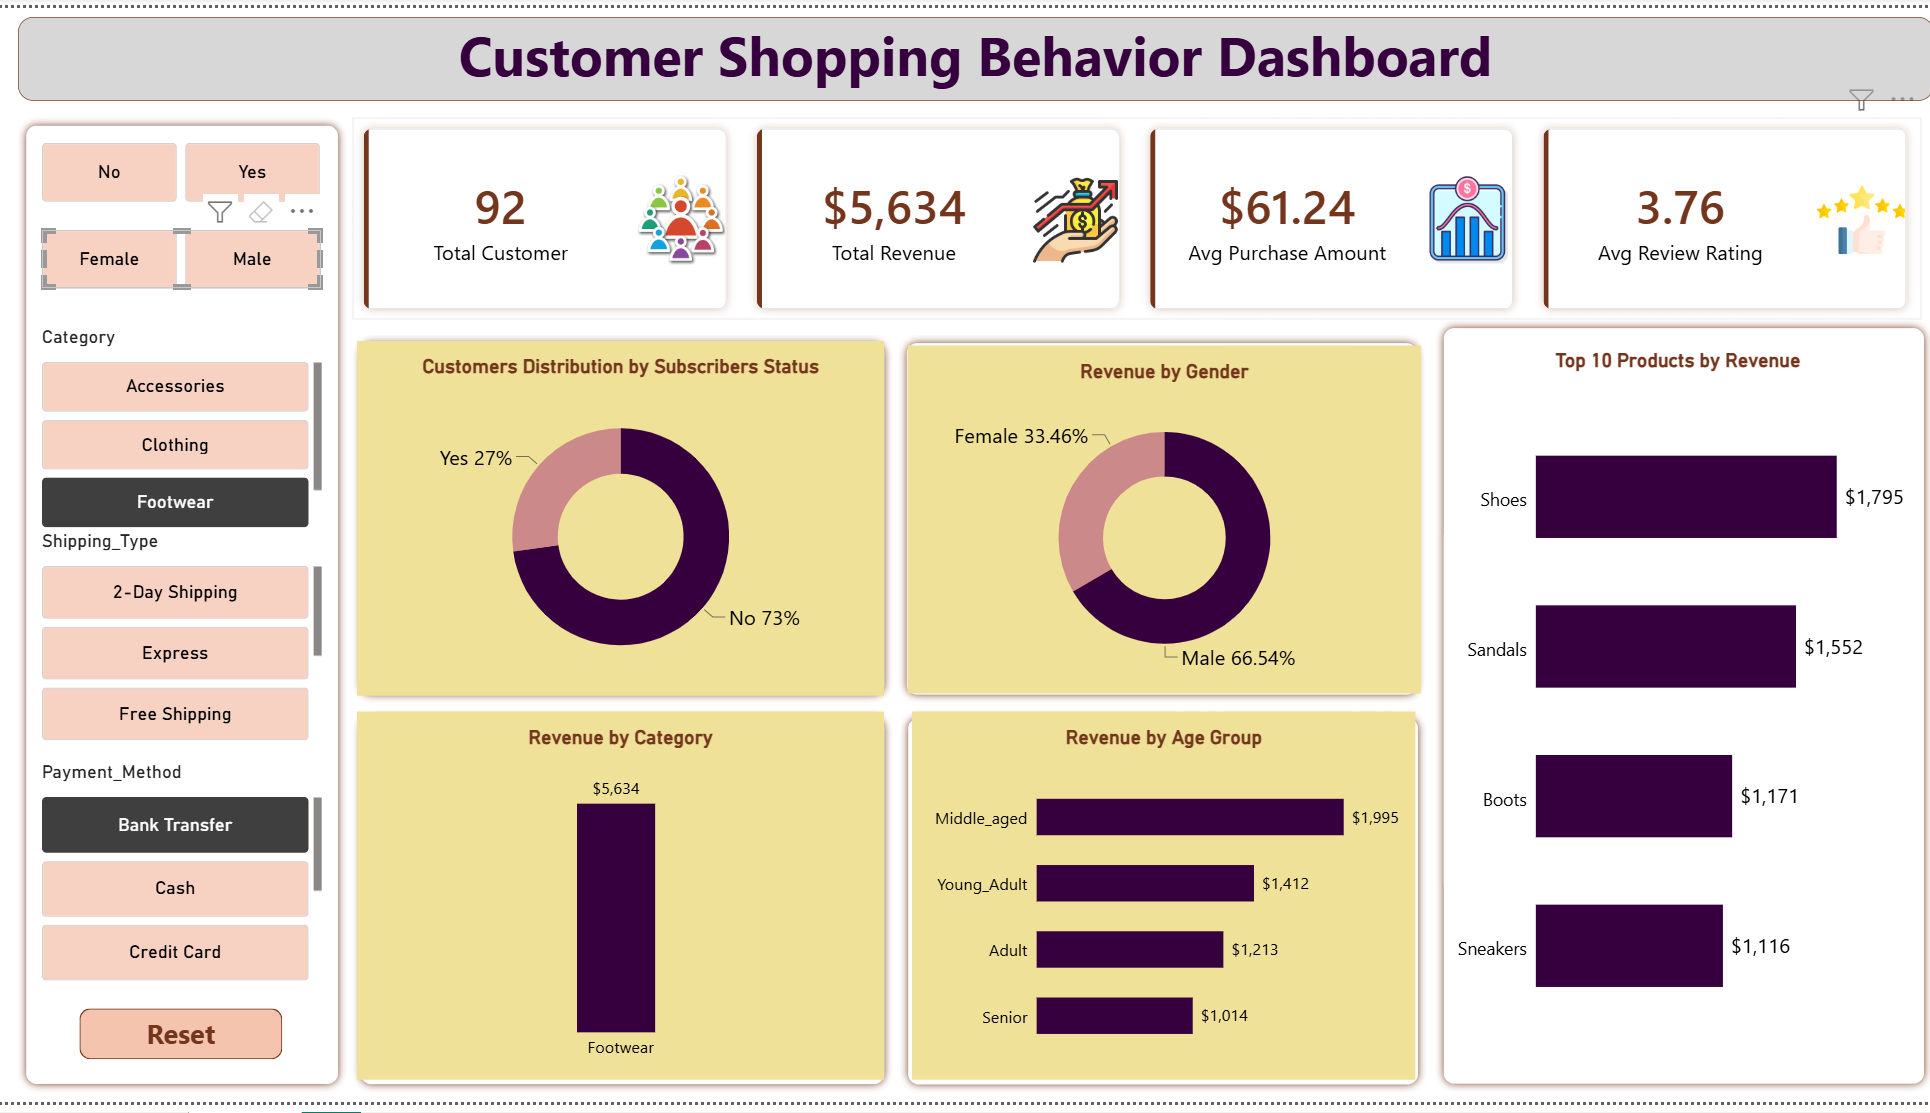

The dashboard page shown, as its layout file describes it:
{"tool":"powerbi","page":{"name":"Page 1","canvas":[1920,1080],"ordinal":0},"visuals":[{"type":"shape","box":[351.4,692.9,532.9,377.1],"z":0},{"type":"shape","box":[890.8,692.5,519.2,377.5],"z":1000},{"type":"shape","box":[1420,308.6,490,761.4],"z":2000},{"type":"shape","box":[890,322.8,519.5,362.9],"z":3000},{"type":"shape","box":[351.4,322.8,532.8,362.9],"z":4000},{"type":"cardVisual","fields":{"Data":["public customer.Total Customer","public customer.Total Revenue","public customer.Avg Purchase Amount","public customer.Avg Review Rating"]},"box":[351.4,108.6,1547.1,200],"z":5000},{"type":"textbox","box":[20,8.6,1890,82.9],"z":6000},{"type":"donutChart","title":"Customers Distribution by Subscribers Status","fields":{"Category":["public customer.subscription_status"],"Y":["public customer.Total Customer"]},"box":[355.2,328.5,520.3,350.2],"z":7000},{"type":"clusteredColumnChart","title":"Revenue by Category","fields":{"Category":["public customer.category"],"Y":["public customer.Total Revenue"]},"box":[355.2,693.7,520.3,363.5],"z":8000},{"type":"clusteredBarChart","title":"Revenue by Age Group","fields":{"Category":["public customer.age_group"],"Y":["public customer.Total Revenue"]},"box":[902.2,693.7,497,363.5],"z":9000},{"type":"donutChart","title":"Revenue by Gender","fields":{"Category":["public customer.gender"],"Y":["public customer.Total Revenue"]},"box":[898.9,333.5,507,343.5],"z":10000},{"type":"clusteredBarChart","title":"Top 10 Products by Revenue","fields":{"Category":["public customer.item_purchased"],"Y":["public customer.Total Revenue"]},"box":[1420,322.9,478.6,725.7],"z":11000},{"type":"shape","box":[20,108.5,323.8,961.5],"z":12000},{"type":"advancedSlicerVisual","fields":{"Values":["public customer.subscription_status"]},"box":[44.3,132.9,275.7,58.6],"z":13000},{"type":"advancedSlicerVisual","fields":{"Values":["public customer.gender"]},"box":[44.3,218.6,275.7,58.6],"z":14000},{"type":"advancedSlicerVisual","title":"Category","fields":{"Values":["public customer.category"]},"box":[44.4,313.8,276,201],"z":15000},{"type":"advancedSlicerVisual","title":"Shipping_Type","fields":{"Values":["public customer.shipping_type"]},"box":[44,515,276,208],"z":16000},{"type":"advancedSlicerVisual","title":"Payment_Method","fields":{"Values":["public customer.payment_method"]},"box":[44,743,276,218],"z":17000},{"type":"actionButton","box":[81.4,987.1,200,50],"z":18000}]}

Visuals, with their boxes in screenshot pixels (x1, y1, x2, y2), scaled from the page's 1920x1080 canvas onto the 1930x1113 screenshot:
shape: [x1=353, y1=714, x2=889, y2=1103]
shape: [x1=895, y1=714, x2=1417, y2=1103]
shape: [x1=1427, y1=318, x2=1920, y2=1103]
shape: [x1=895, y1=333, x2=1417, y2=707]
shape: [x1=353, y1=333, x2=889, y2=707]
cardVisual - public customer.Total Customer x public customer.Total Revenue: [x1=353, y1=112, x2=1908, y2=318]
textbox: [x1=20, y1=9, x2=1920, y2=94]
"Customers Distribution by Subscribers Status" donutChart: [x1=357, y1=339, x2=880, y2=699]
"Revenue by Category" clusteredColumnChart: [x1=357, y1=715, x2=880, y2=1090]
"Revenue by Age Group" clusteredBarChart: [x1=907, y1=715, x2=1406, y2=1090]
"Revenue by Gender" donutChart: [x1=904, y1=344, x2=1413, y2=698]
"Top 10 Products by Revenue" clusteredBarChart: [x1=1427, y1=333, x2=1908, y2=1081]
shape: [x1=20, y1=112, x2=346, y2=1103]
advancedSlicerVisual - public customer.subscription_status: [x1=45, y1=137, x2=322, y2=197]
advancedSlicerVisual - public customer.gender: [x1=45, y1=225, x2=322, y2=286]
"Category" advancedSlicerVisual: [x1=45, y1=323, x2=322, y2=531]
"Shipping_Type" advancedSlicerVisual: [x1=44, y1=531, x2=322, y2=745]
"Payment_Method" advancedSlicerVisual: [x1=44, y1=766, x2=322, y2=990]
actionButton: [x1=82, y1=1017, x2=283, y2=1069]
